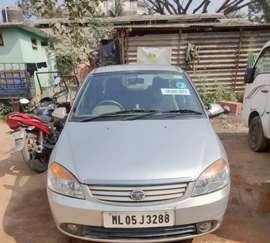ML05J3288: (103, 210, 174, 227)
